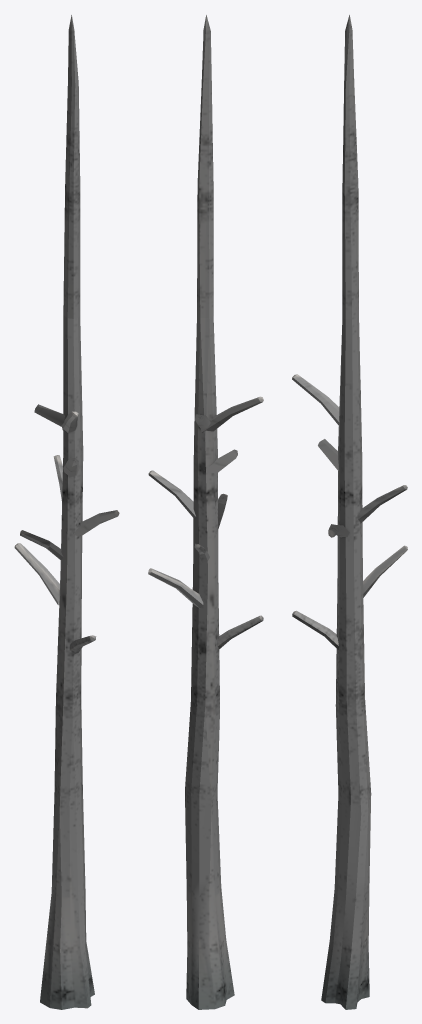
The model's file is Pine.fbx.
The picture shows the model from 3 angles, left to right: view 1: azimuth 90°, elevation 25°; view 2: azimuth 150°, elevation 25°; view 3: azimuth 330°, elevation 25°; orthographic projection.
Parts seen in each view (by area): view 1: polySurface51; view 2: polySurface51; view 3: polySurface51.
Boxes of the visible parts, bbox=[...] form: polySurface51: bbox=[14, 15, 119, 1009]; polySurface51: bbox=[148, 15, 263, 1009]; polySurface51: bbox=[292, 15, 407, 1009].
Bounding box in the file's own units: 101 × 908 × 87.87.
